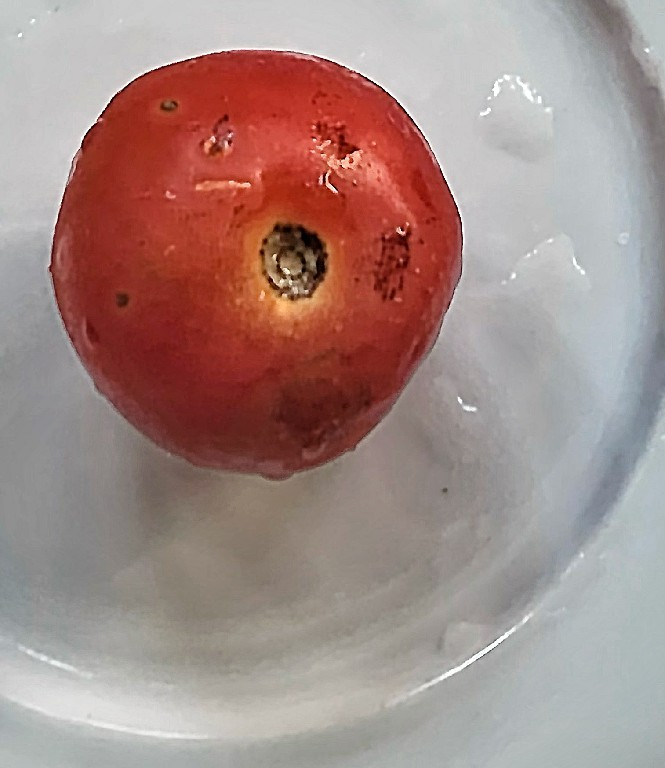NG: (51, 44, 468, 488)
